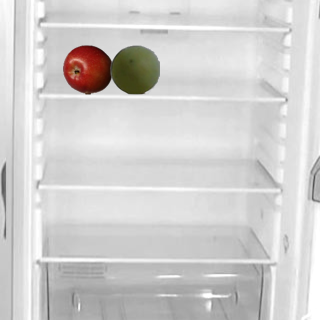Apple Braeburn: (62, 44, 112, 94)
Grape White 4: (109, 44, 159, 94)
